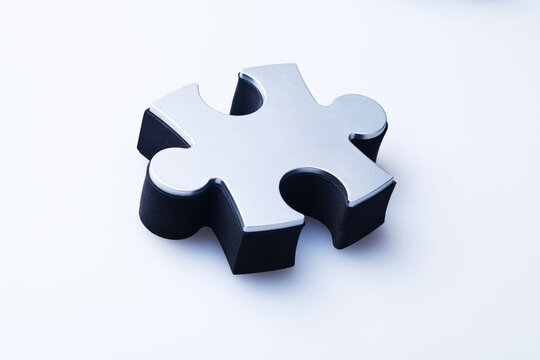puzzle piece: (126, 49, 427, 289)
